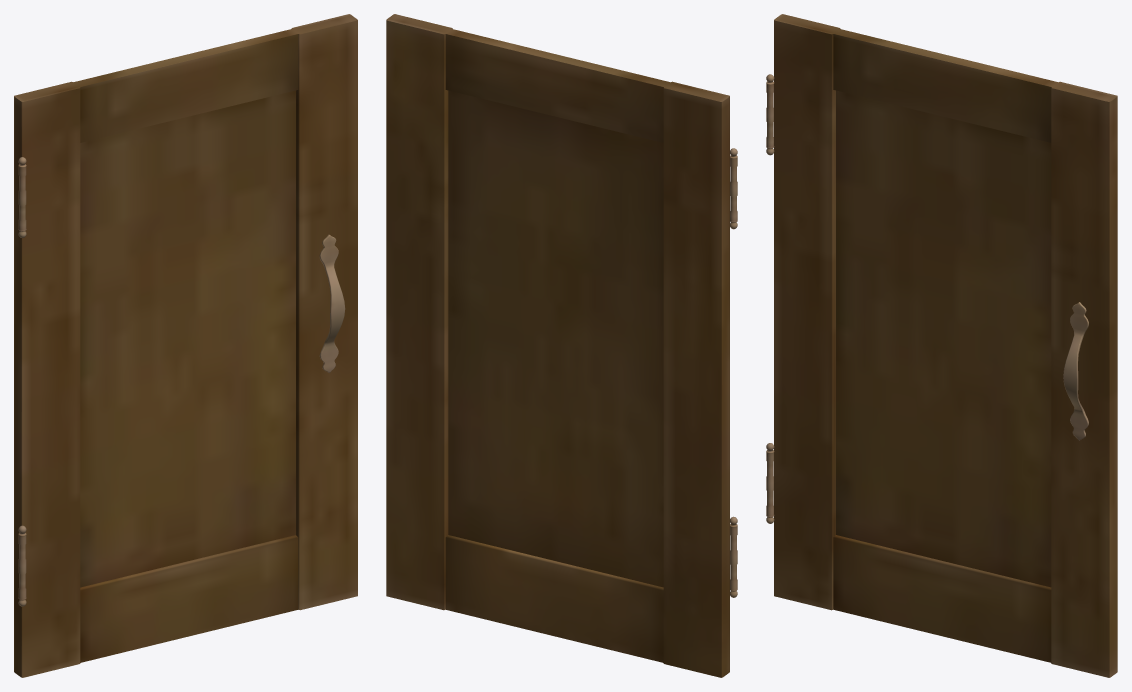
The model's file is SM_hanging_cupboard_door_01_a92212.glb.
3 renders of one model, left to right at view 1: azimuth 30°, elevation 25°; view 2: azimuth 150°, elevation 25°; view 3: azimuth 330°, elevation 25°, orthographic.
Size of the model in its own units: 0.3022 by 0.4872 by 0.0281.
Materials: 1 (1 with a texture image).
